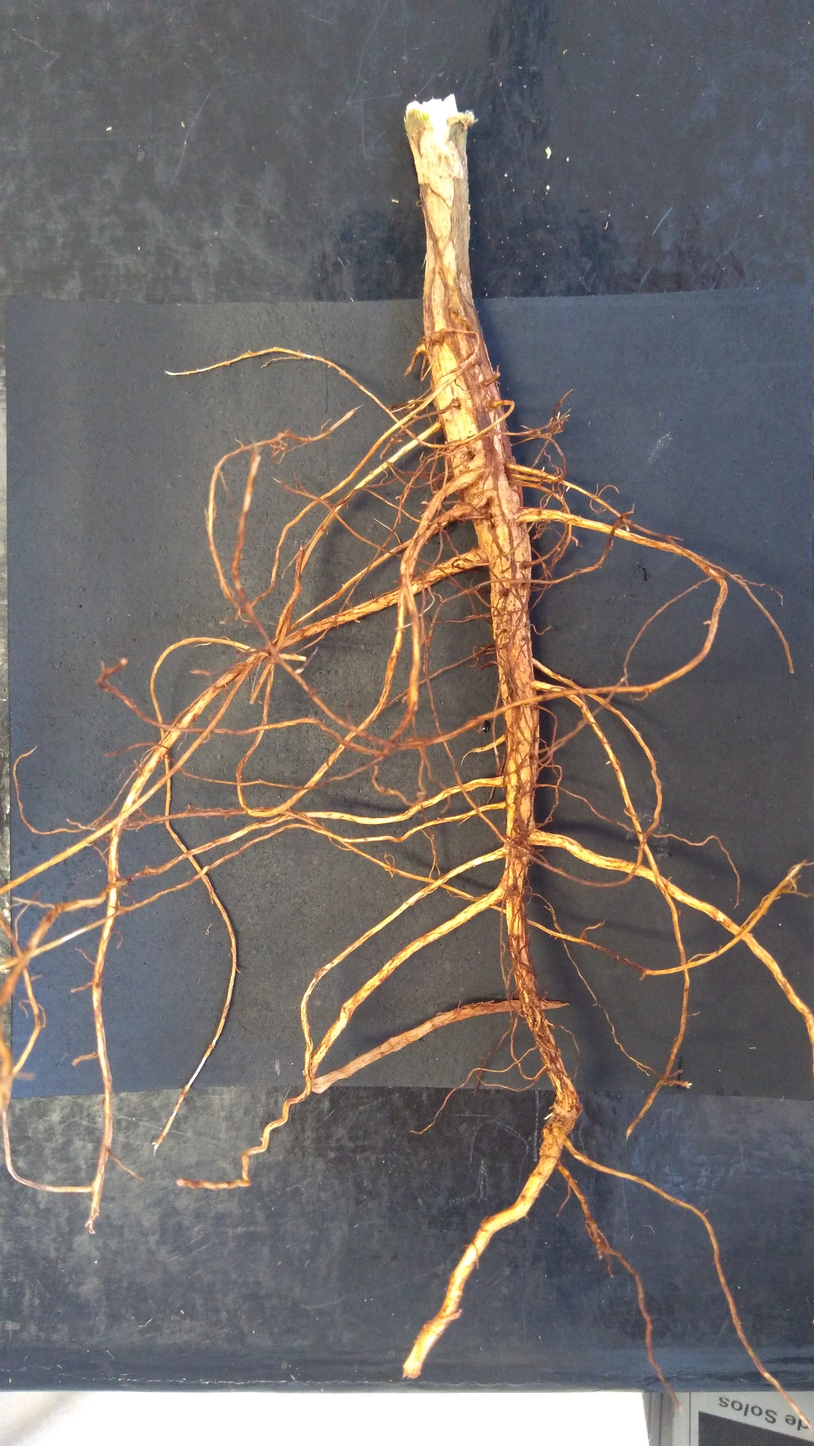nodule: (552, 1092, 584, 1123), (542, 1115, 567, 1146), (539, 1139, 559, 1156), (429, 330, 444, 345), (405, 398, 417, 411), (414, 343, 426, 355)
